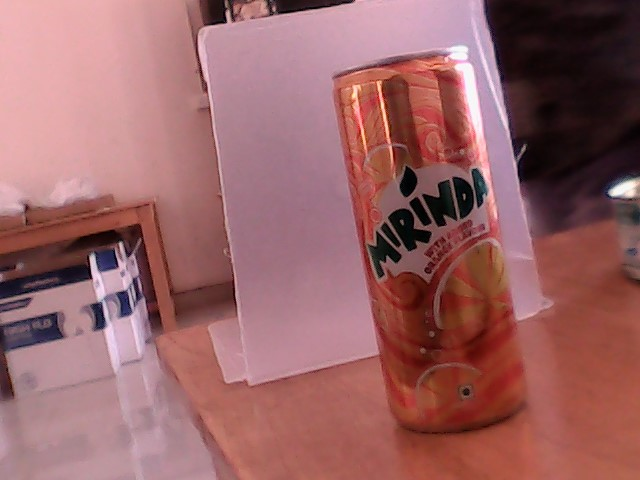Metal: (322, 67, 573, 480)
